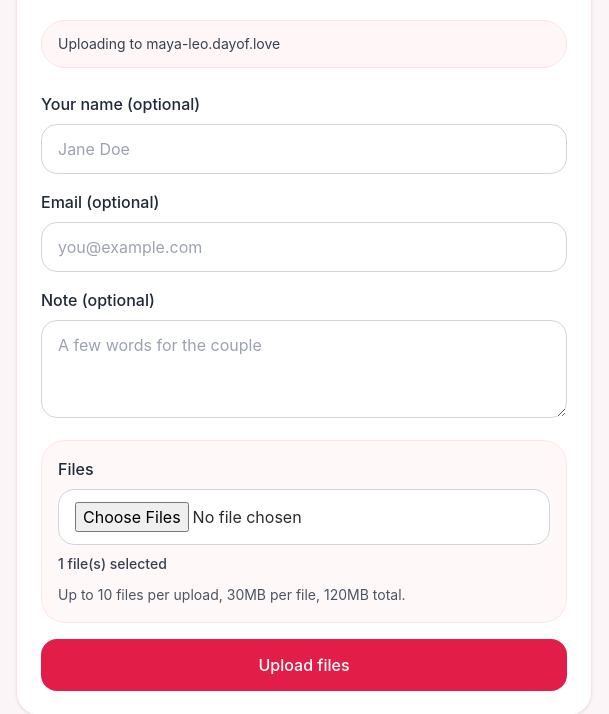
Test: PhotoUpload guest-safe copy › submits slug-based guest upload links without requiring a pasted access code
The image size is (609, 714).
Earlier steps of the test are not shown.
(page scrolled)
Click the button "Upload files" at (304, 665), box [41,639,567,691]
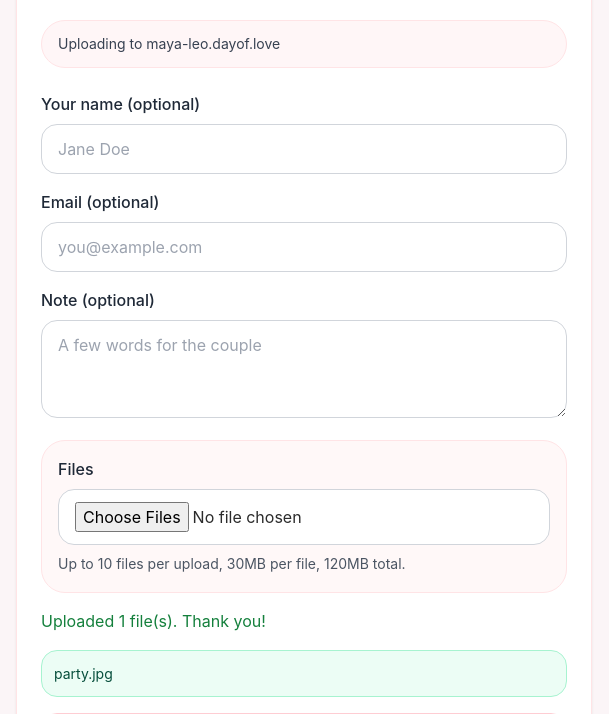
Expected: the text "Uploaded 1 file(s). Thank you!" is shown, [41,611,266,631]
